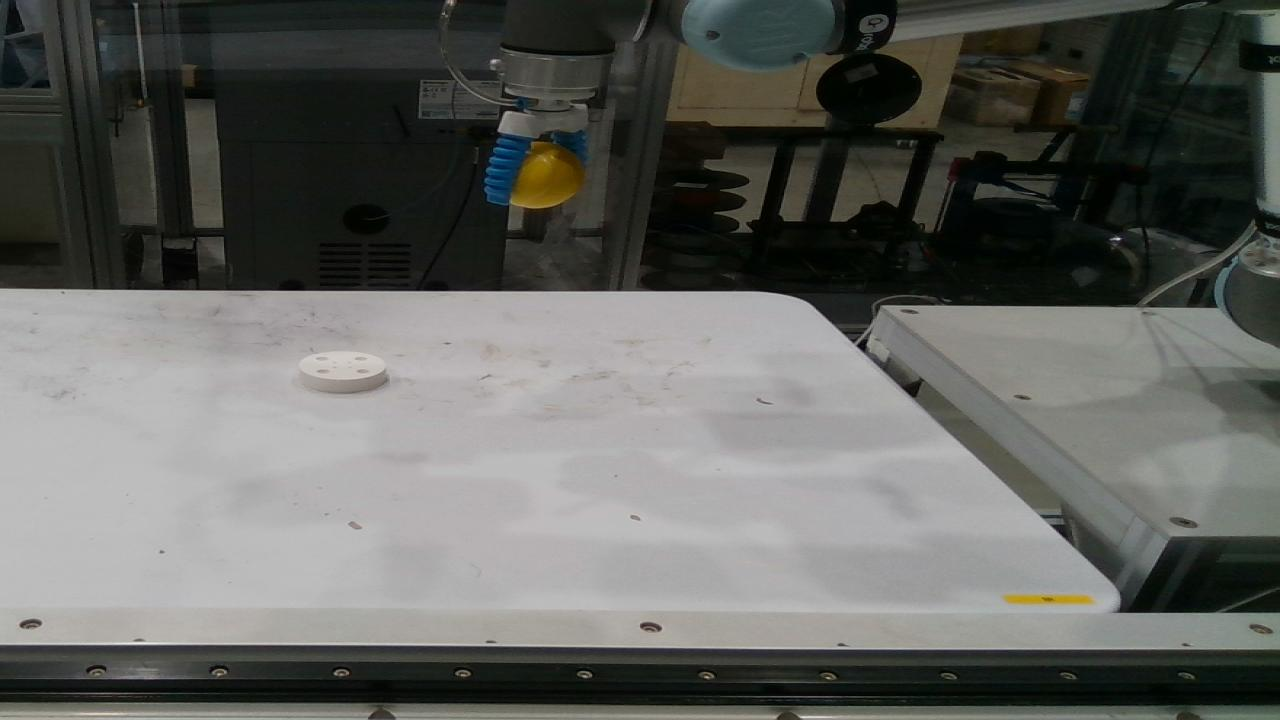UR5: (506, 2, 1200, 138), (1204, 2, 1279, 343)
gripper_left: (550, 129, 588, 165)
gripper_right: (486, 135, 526, 201)
target: (511, 141, 583, 209), (298, 354, 386, 394)
